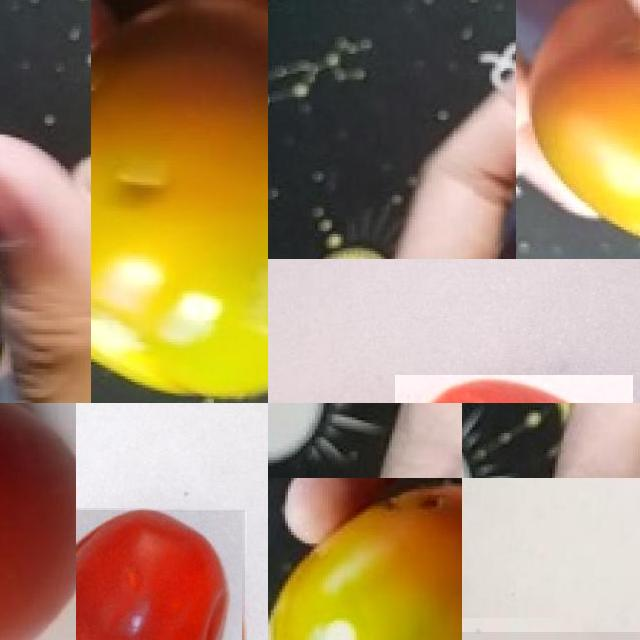Fresh Tomato: (0, 403, 76, 640)
Rotten Tomato: (91, 0, 268, 403), (516, 0, 640, 259), (268, 478, 462, 640), (76, 509, 245, 640)
